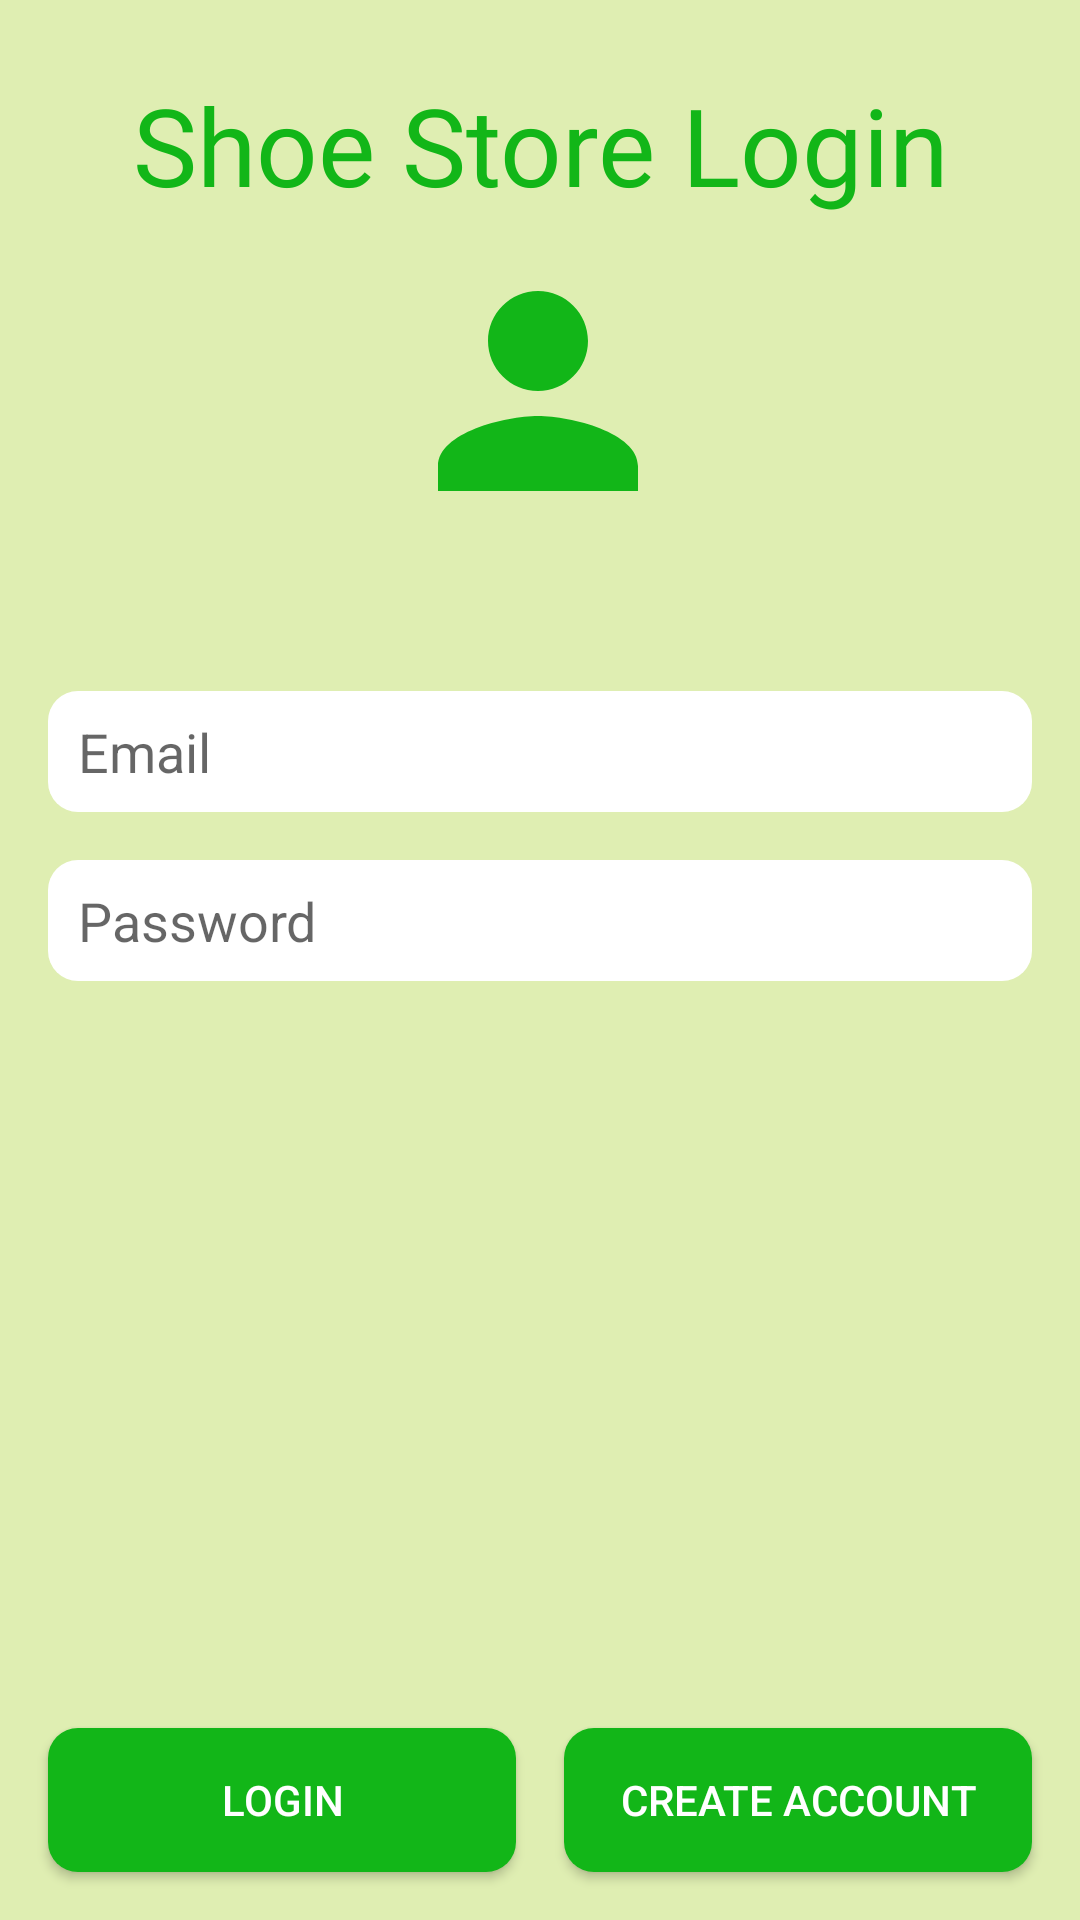

Screen size 1080 × 1920. Icon name, then its center in pixels as (x=x, y=y):
person: (x=538, y=391)
